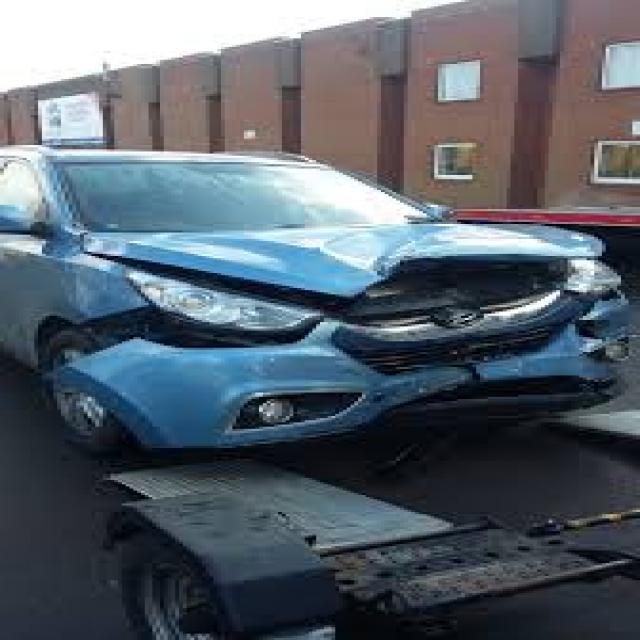severe: (41, 197, 631, 458)
